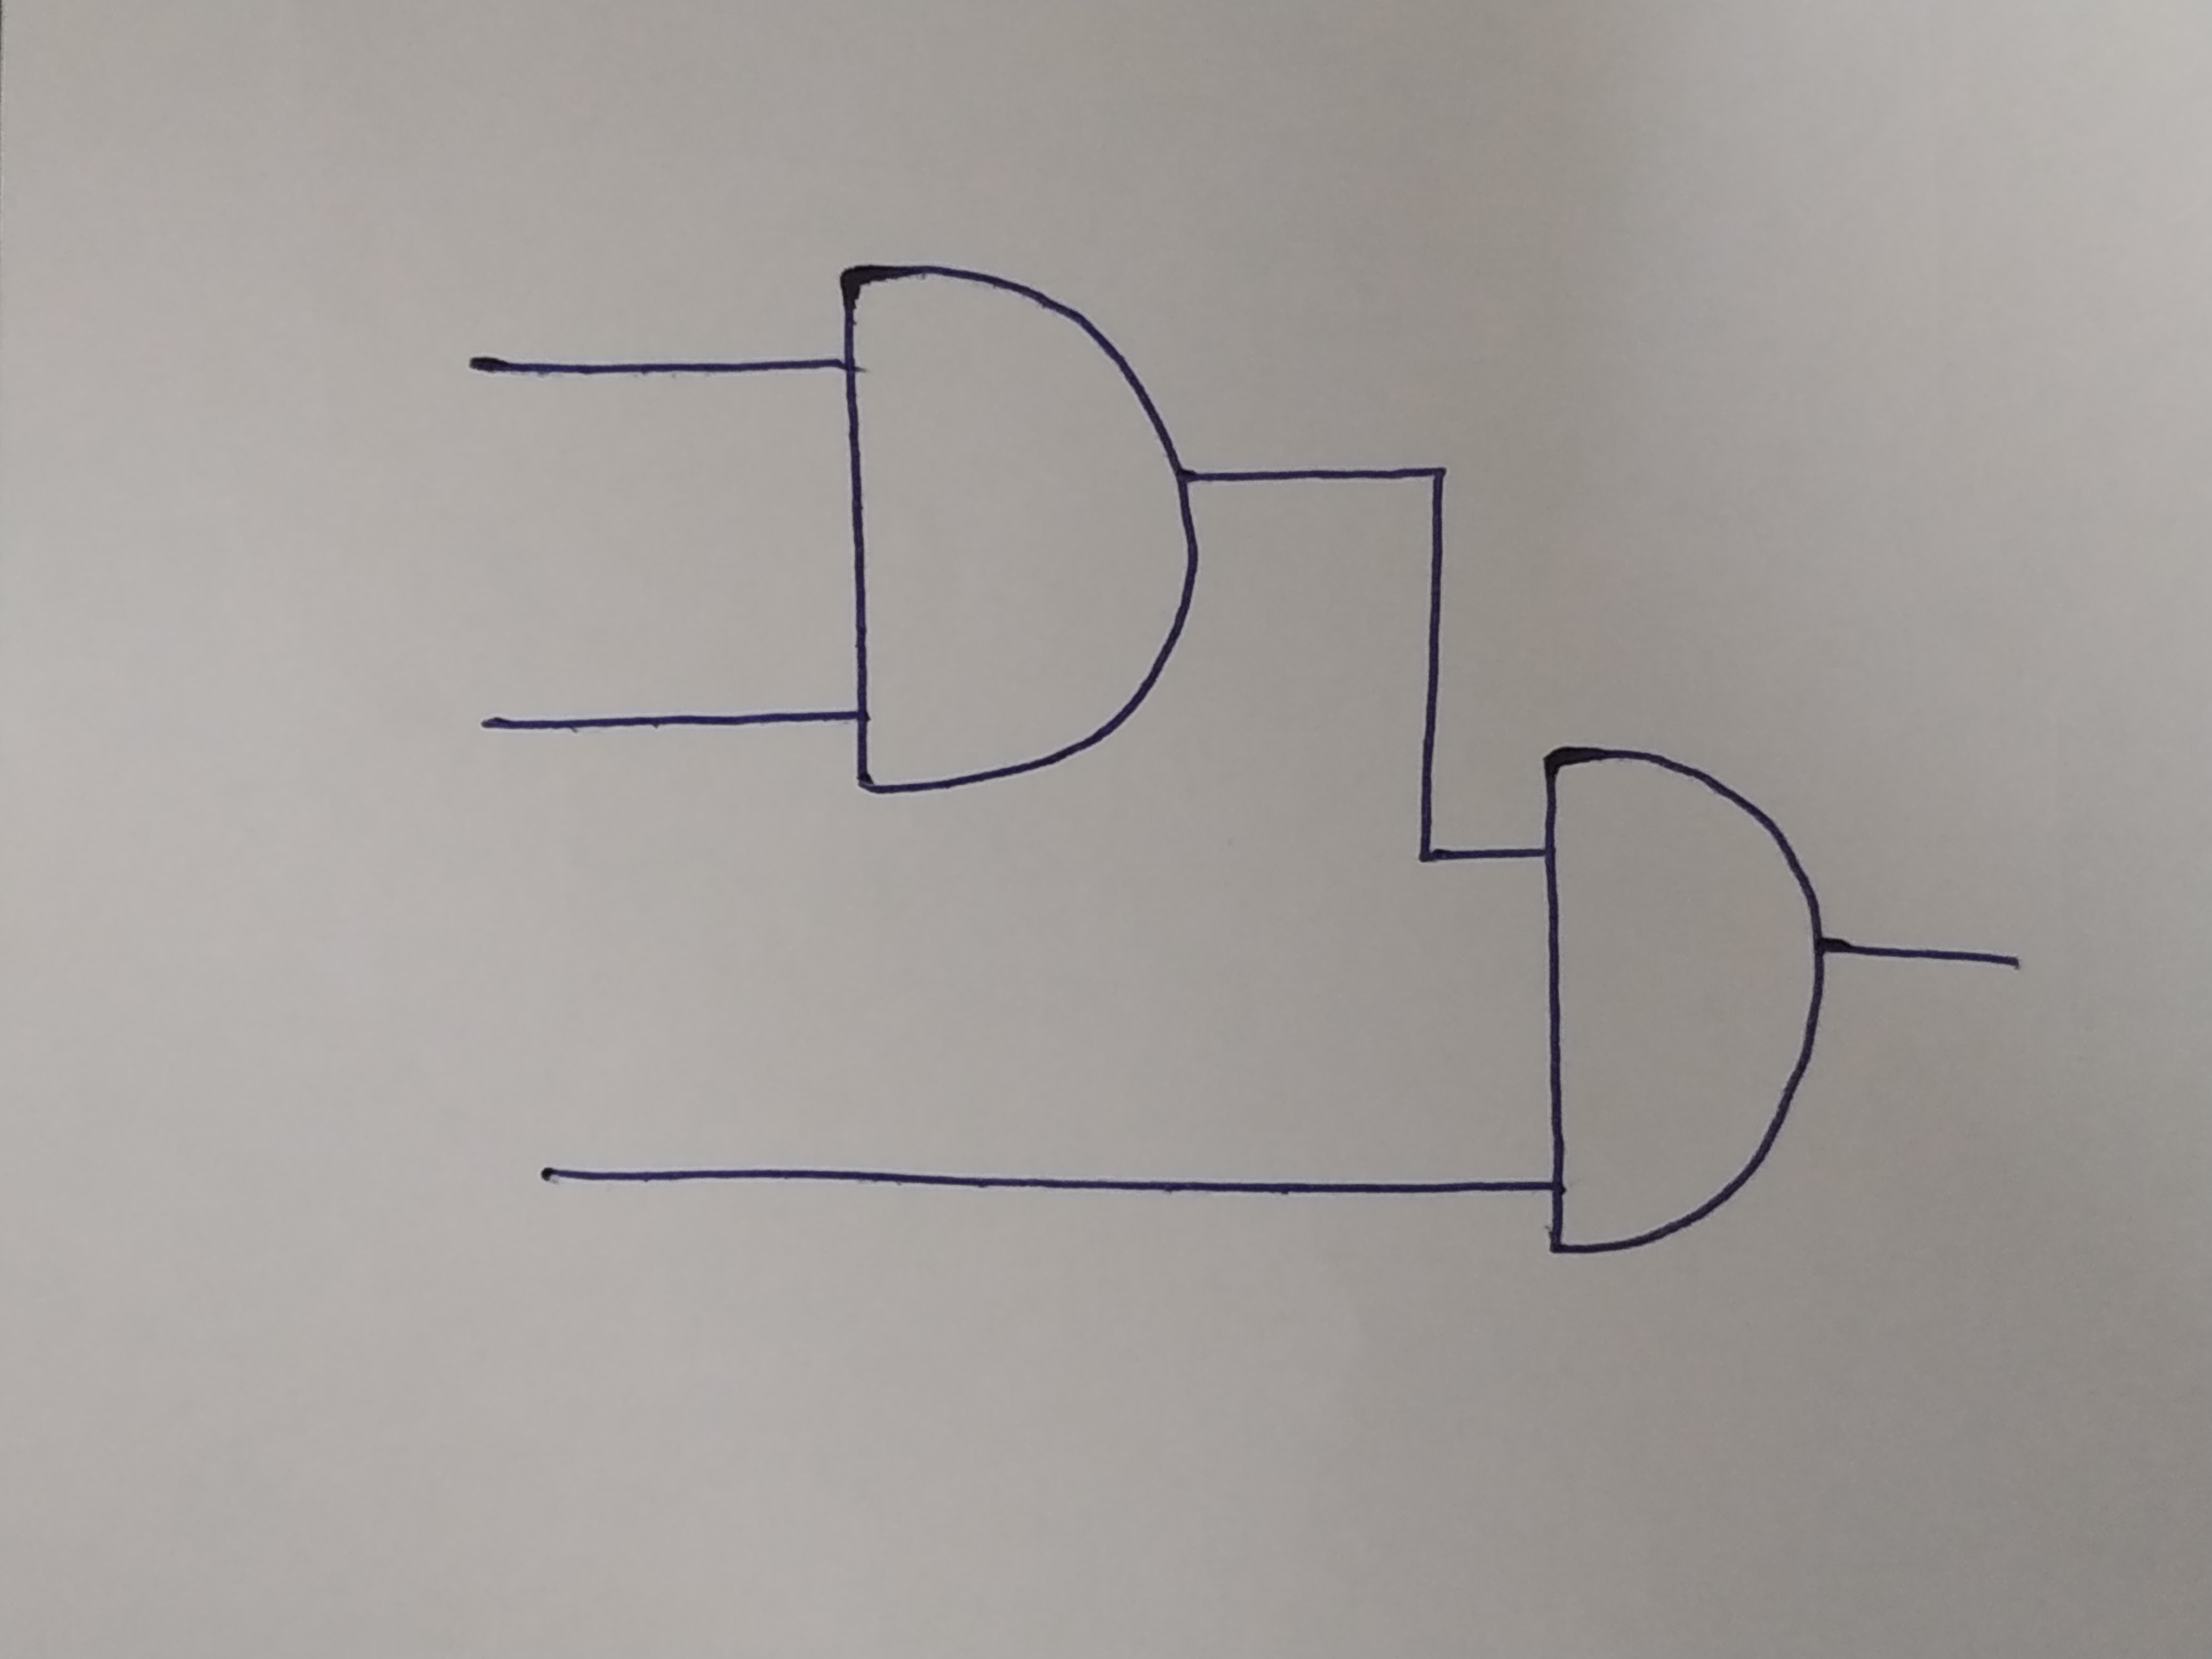and: (841, 263, 1202, 789), (1538, 744, 1824, 1253)
